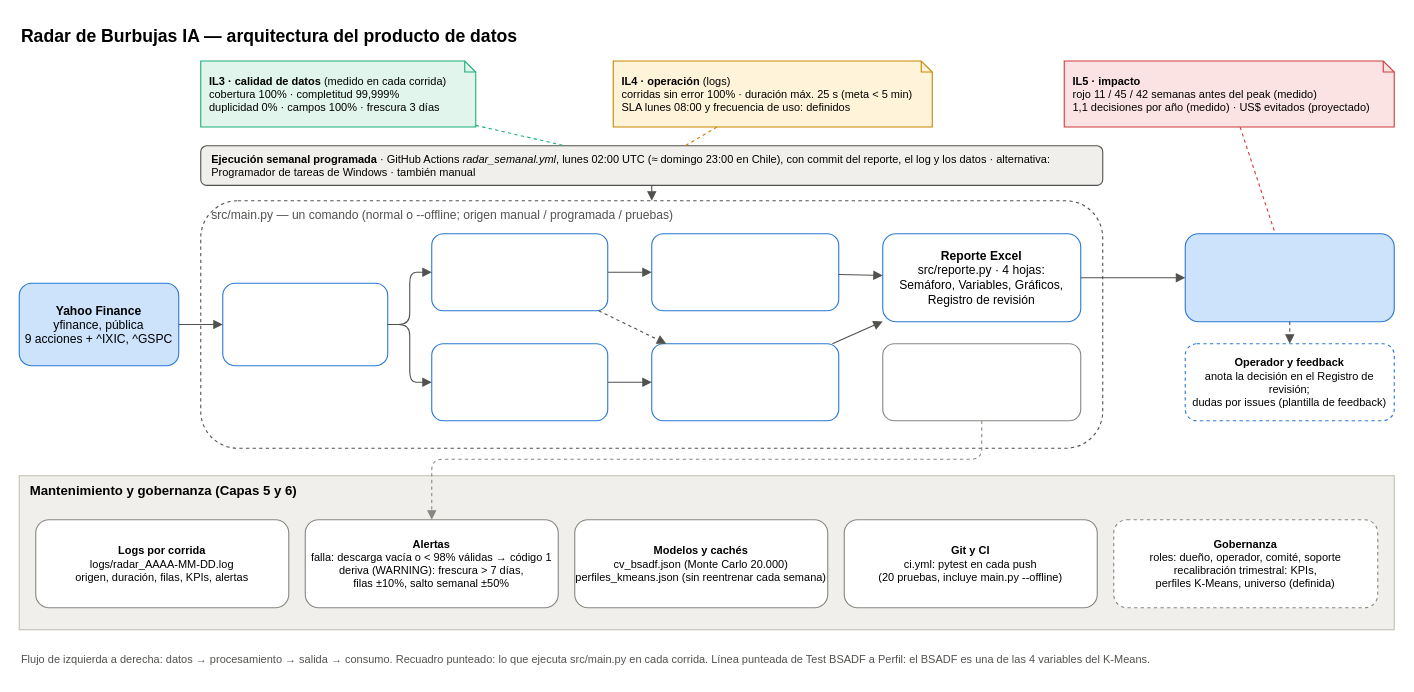
The diagram is 1414 pixels wide and 692 high, and some of its shapes have lost their labels. The centre of each missing label's shape, as x and y in pixels:
"Comité de inversiones lee el reporte (solo lectura) mantener, reducir o cubrir" goes at (1289,277).
"Ingesta y validación src/ingesta.py duplicados, precios, huecos, volumen" goes at (305,324).
"KPIs y alertas de deriva src/kpis.py, monitoreo.py se escriben en el log" goes at (981,382).
"Perfil de riesgo (K-Means) src/perfiles.py, k = 3 estable / explosivo / volátil" goes at (745,382).
"Semáforo verde / amarillo / rojo umbrales 90% y 95%, persistencia 6 sem." goes at (745,272).
"Test BSADF src/sadf.py, features.py ventana 260 semanas" goes at (519,272).
"Variables de riesgo momentum, volatilidad, beta vs. S&P 500" goes at (519,382).
